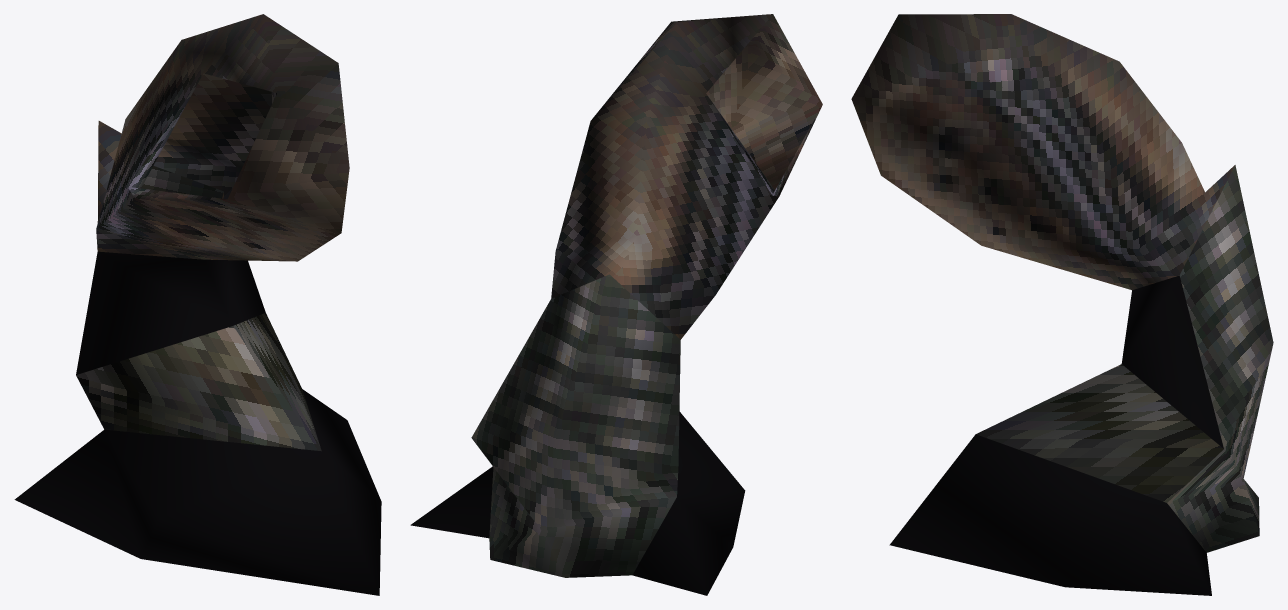
Rendered from aliengrunt_pierna_izq.obj.
The picture shows the model from 3 angles, left to right: view 1: azimuth 30°, elevation 25°; view 2: azimuth 150°, elevation 25°; view 3: azimuth 270°, elevation 25°; orthographic projection. The views are drawn at different scales.
Bounding box in the file's own units: 0.5792 × 0.9074 × 0.6832.
